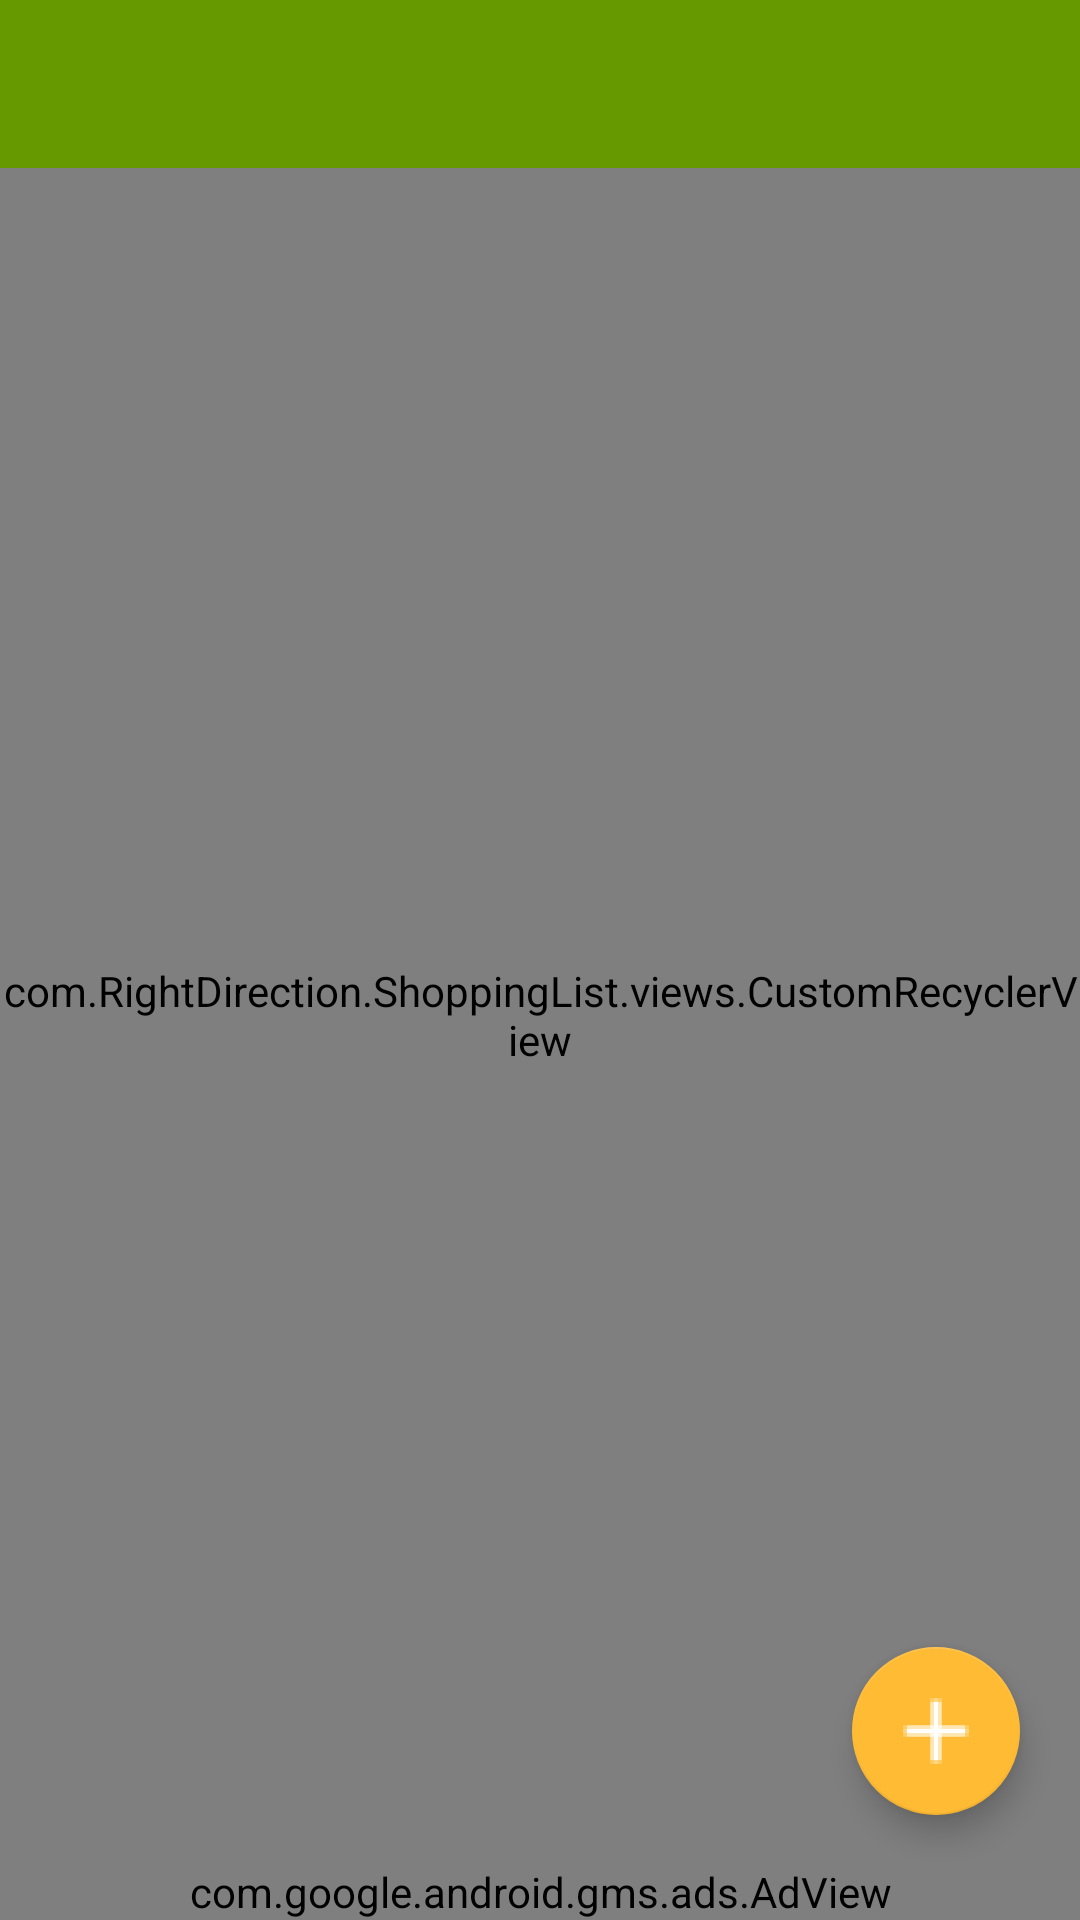

Screen size 1080w x 1920h. Icon name, then its box in pixels as (x1, y1, x2, y2):
add: (852, 1647, 1020, 1815)
